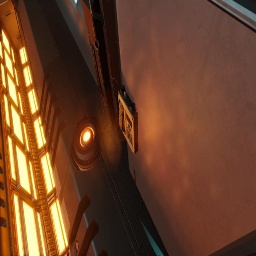EmergencyPhone ,: (112, 78, 138, 154)
